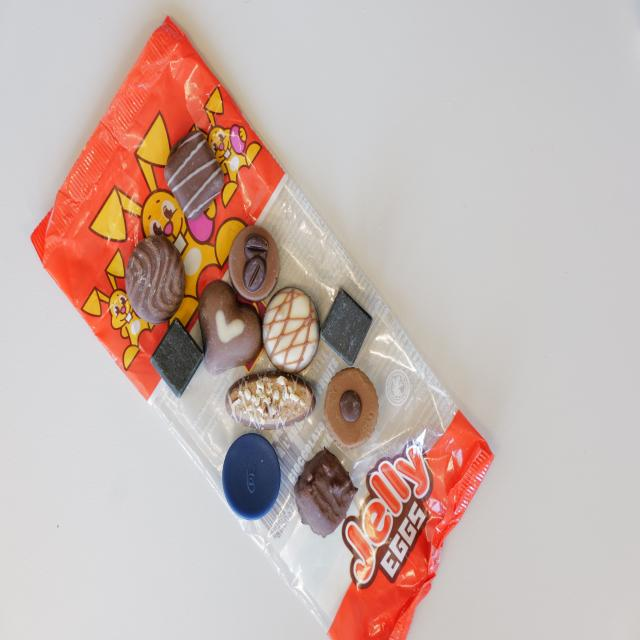Amandina: (225, 370, 315, 430)
Arabia: (230, 224, 280, 299)
Creme_brulee: (264, 288, 320, 373)
Noblesse: (326, 365, 380, 444)
Noir_authentique: (128, 232, 188, 322)
Passion_au_lait: (200, 280, 262, 372)
Stracciatella: (166, 128, 226, 218)
Tentation_noir: (295, 446, 357, 536)
